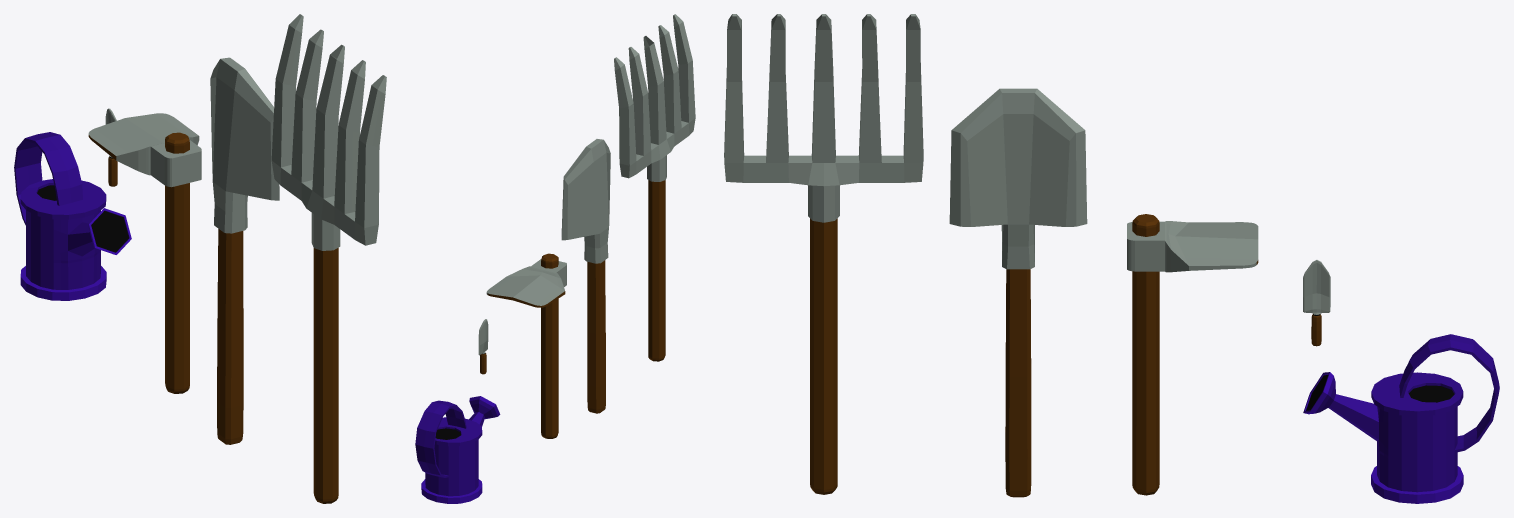
File: garden tools final (1).fbx
3 renders of one model, left to right at view 1: azimuth 30°, elevation 25°; view 2: azimuth 150°, elevation 25°; view 3: azimuth 270°, elevation 25°, orthographic. The views are drawn at different scales.
Visible parts, largest first — view 1: RAKE, CHOBEL, WATERING CAN, HOE; view 2: RAKE, CHOBEL, WATERING CAN, HOE, TINY CHOBEL; view 3: RAKE, CHOBEL, WATERING CAN, HOE, TINY CHOBEL.
Boxes of the visible parts, x1=… form: RAKE: x1=271, y1=14, x2=386, y2=503; CHOBEL: x1=210, y1=57, x2=279, y2=444; WATERING CAN: x1=14, y1=132, x2=131, y2=300; HOE: x1=88, y1=113, x2=201, y2=393; RAKE: x1=614, y1=14, x2=695, y2=361; CHOBEL: x1=561, y1=139, x2=610, y2=413; WATERING CAN: x1=415, y1=396, x2=500, y2=503; HOE: x1=486, y1=253, x2=566, y2=438; TINY CHOBEL: x1=478, y1=319, x2=488, y2=374; RAKE: x1=724, y1=14, x2=923, y2=494; CHOBEL: x1=949, y1=88, x2=1087, y2=497; WATERING CAN: x1=1303, y1=334, x2=1499, y2=503; HOE: x1=1127, y1=214, x2=1258, y2=495; TINY CHOBEL: x1=1303, y1=260, x2=1330, y2=346.
Bounding box in the file's own units: 12.25 × 58.85 × 84.23.
